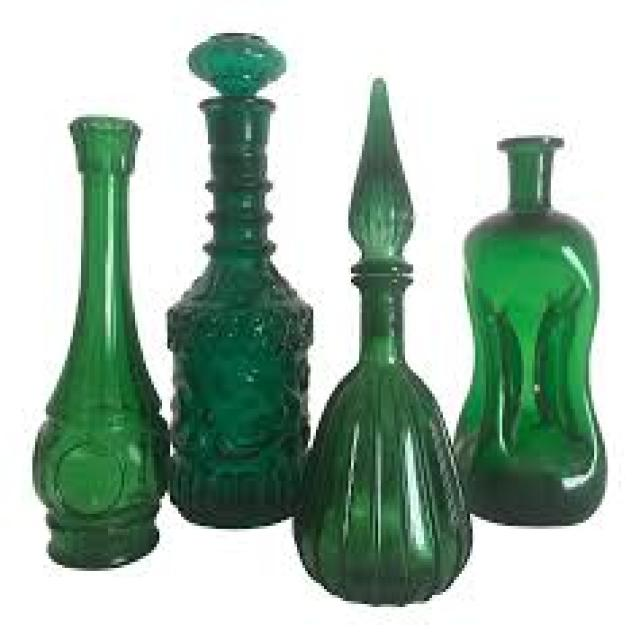glass: (292, 75, 470, 604), (162, 33, 316, 529), (30, 114, 167, 568), (448, 135, 605, 526)
